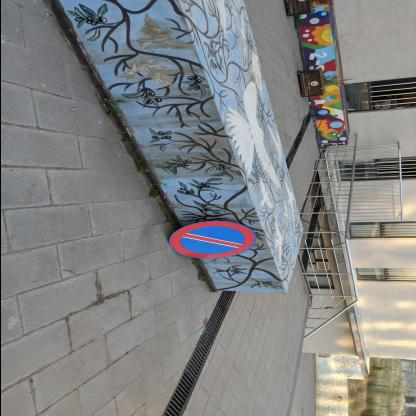No Waiting: (171, 223, 255, 260)
